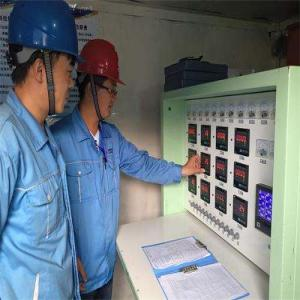blue: (9, 2, 78, 121)
red: (79, 38, 124, 121)
